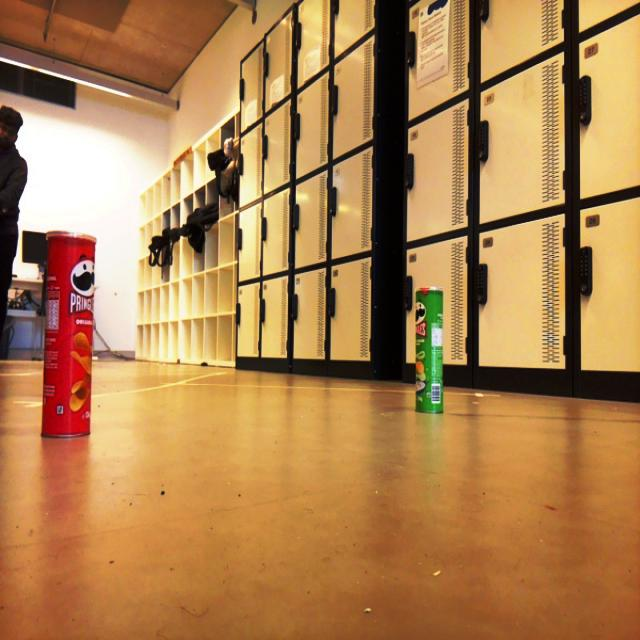greenpringles: (404, 275, 449, 425)
redpringles: (37, 220, 110, 456)
